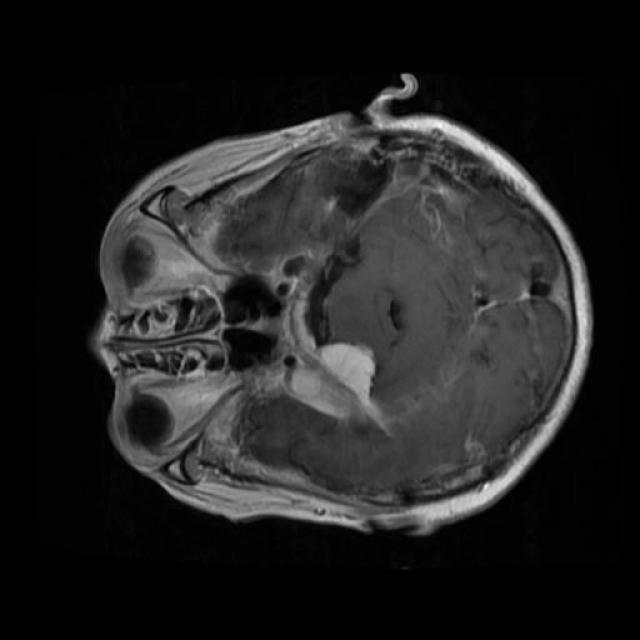Meningioma: (281, 342, 383, 429)
